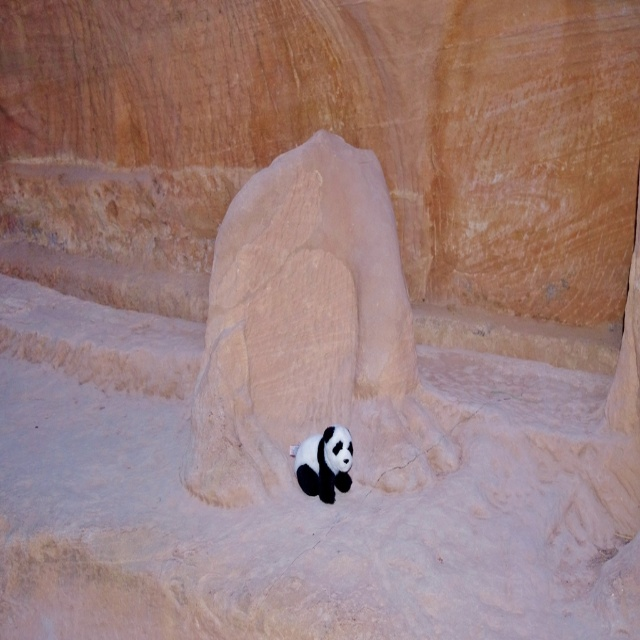Panda: (290, 423, 354, 505)
